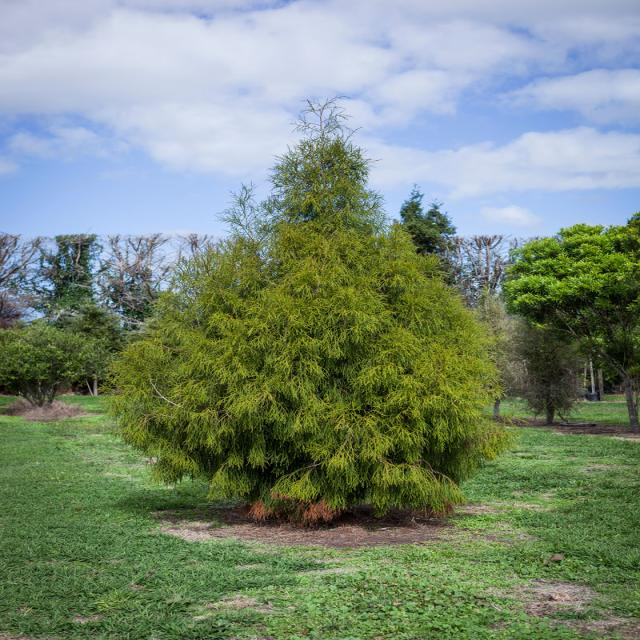Rimu: (179, 120, 412, 531)
